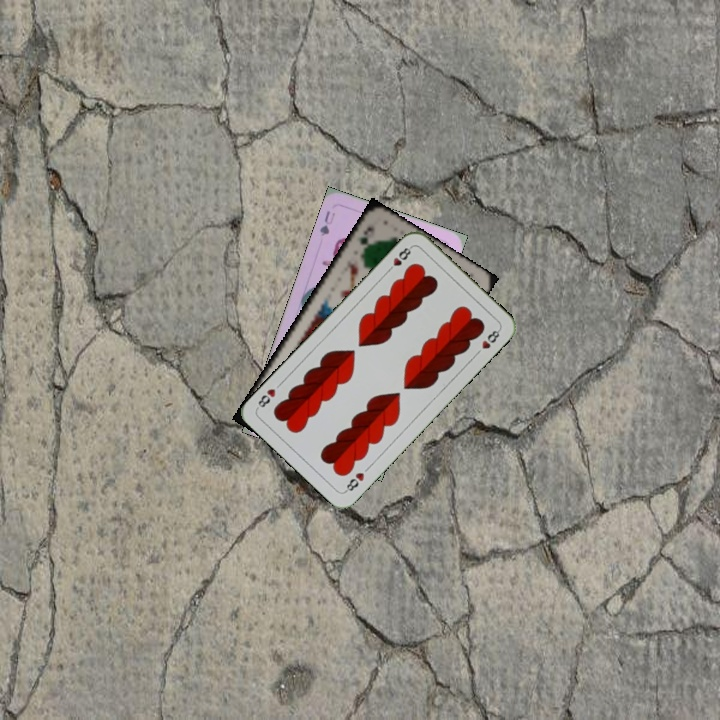GK: (355, 222, 375, 257)
GU: (316, 206, 338, 239)
H8: (383, 242, 415, 275), (341, 468, 367, 495)
